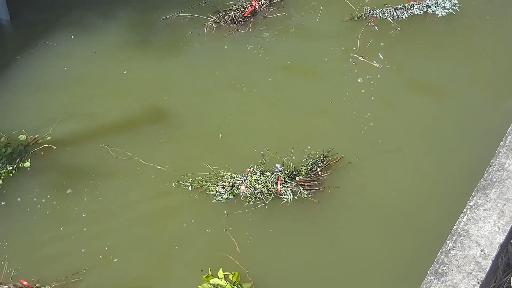twig: (179, 152, 362, 201), (347, 0, 481, 45), (0, 121, 85, 184), (161, 0, 297, 37), (186, 255, 277, 288), (0, 265, 71, 288)
